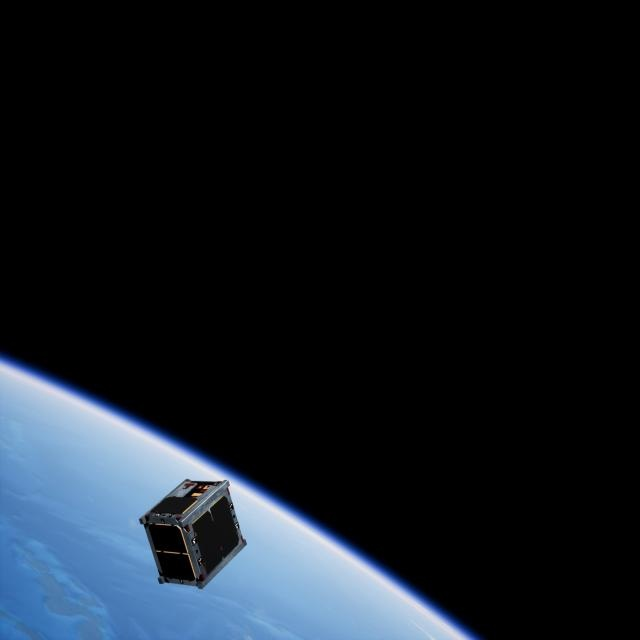medium_debris: (135, 471, 248, 590)
